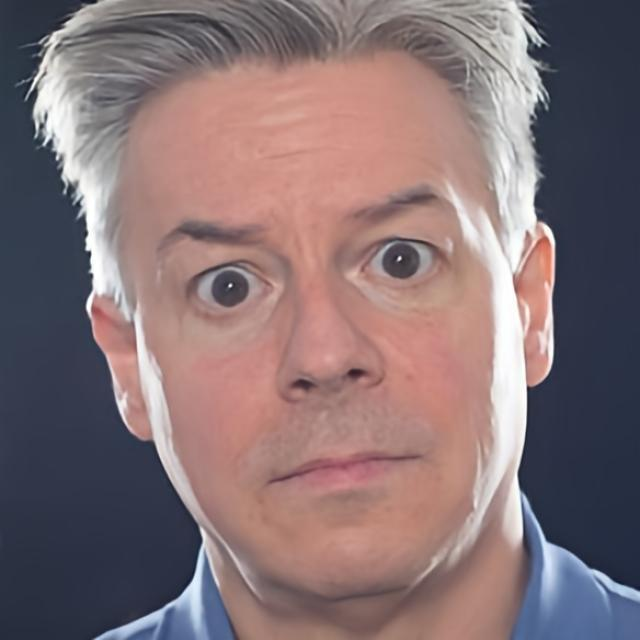fear: (124, 57, 527, 604)
